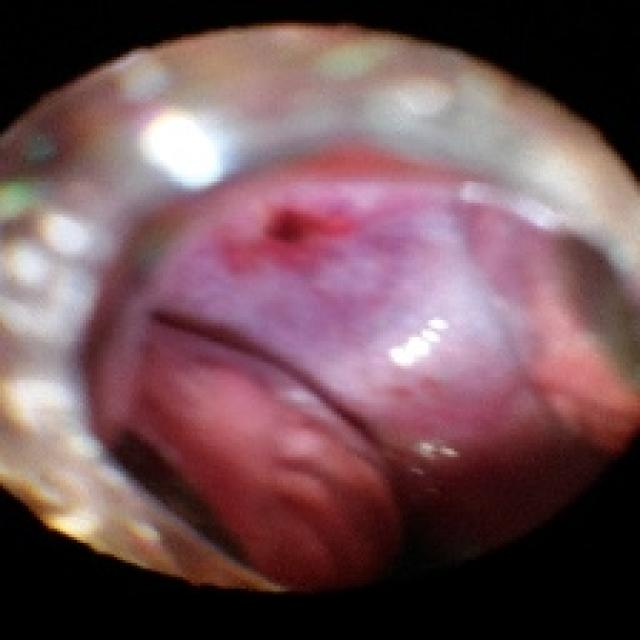type-2: (7, 51, 622, 544)
